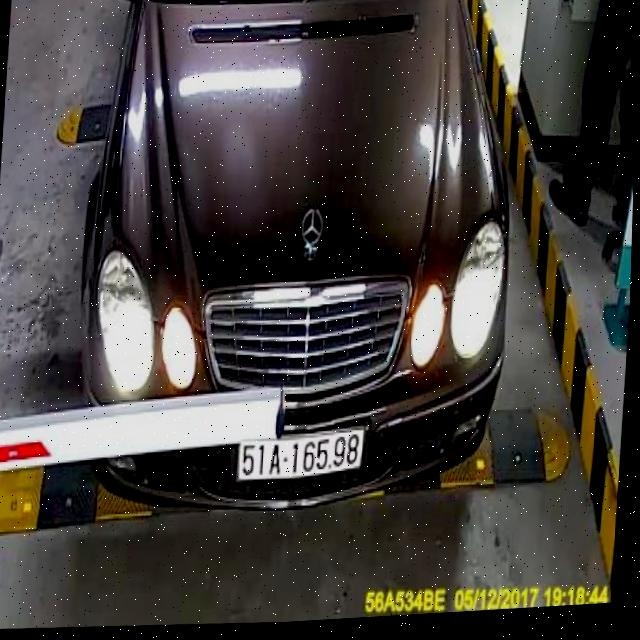car: (60, 0, 538, 536)
plate: (232, 427, 373, 485)
